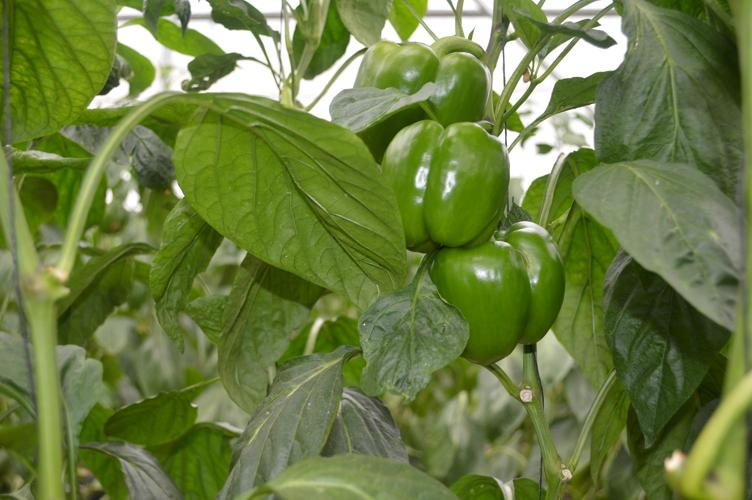BellPepper: (361, 117, 516, 252), (411, 245, 575, 372), (337, 21, 490, 134)
